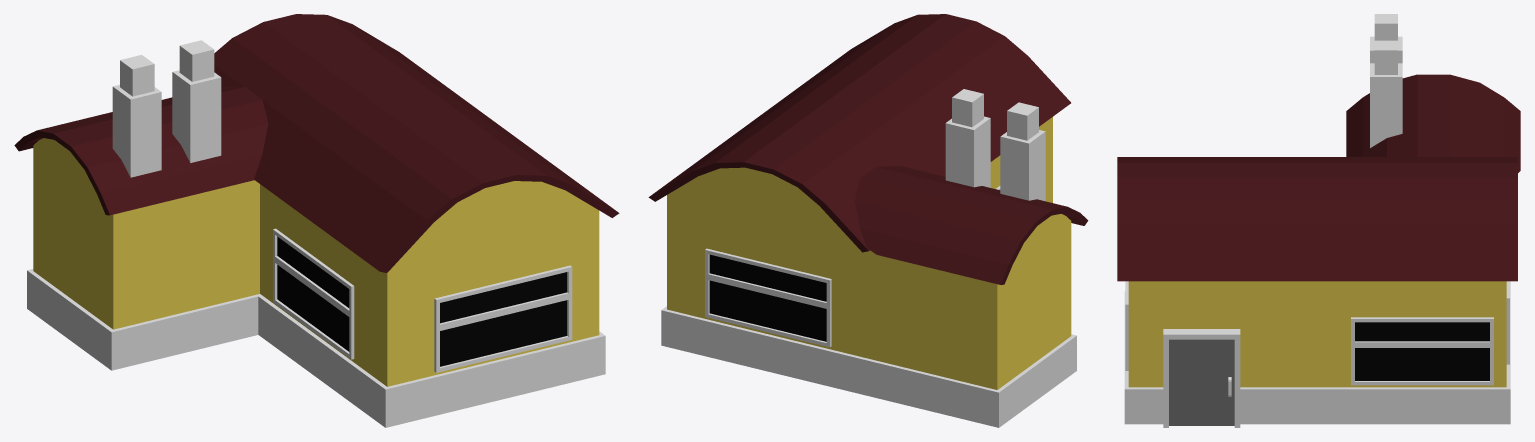
File: diner.fbx
The picture shows the model from 3 angles, left to right: view 1: azimuth 30°, elevation 25°; view 2: azimuth 150°, elevation 25°; view 3: azimuth 270°, elevation 25°; orthographic projection. The views are drawn at different scales.
Visible parts, largest first — view 1: Cube.005; view 2: Cube.005; view 3: Cube.005.
Boxes of the visible parts, box(x1,y1,x2,y2) form: Cube.005: box(14, 14, 619, 427); Cube.005: box(648, 14, 1088, 427); Cube.005: box(1117, 14, 1520, 427).
Bounding box in the file's own units: 1046 × 745 × 1045.
